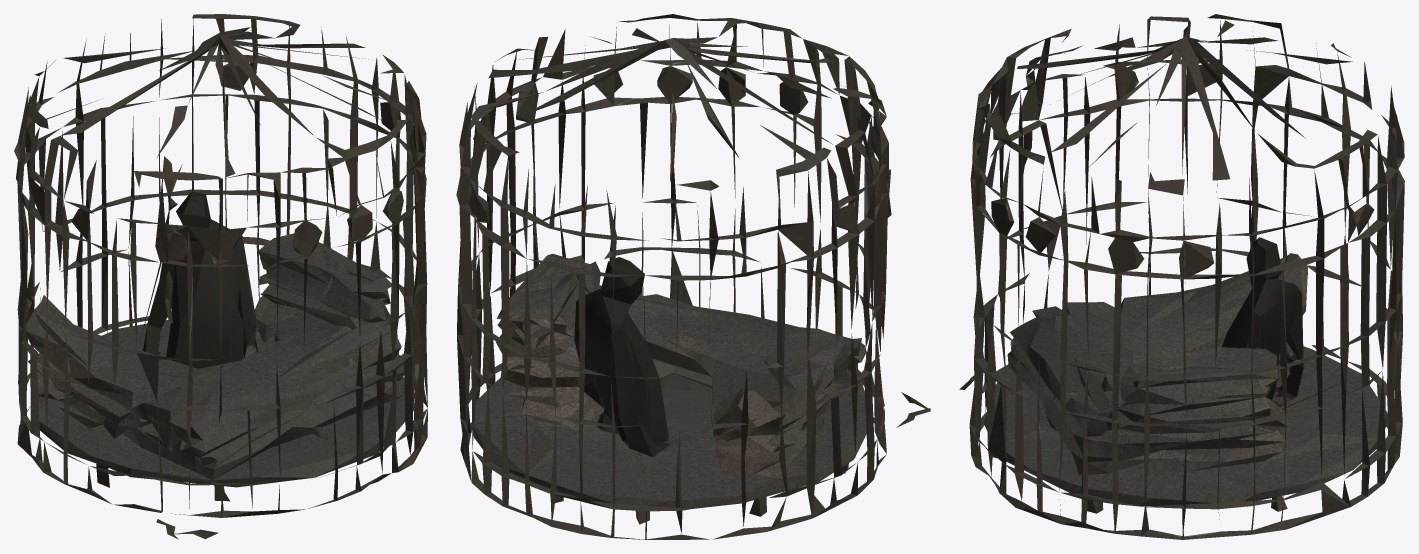
The model's file is prisoner_cage.glb.
3 views of the same model, side by side, from view 1: azimuth 30°, elevation 25°; view 2: azimuth 150°, elevation 25°; view 3: azimuth 270°, elevation 25° (orthographic). The views are drawn at different scales.
Bounding box in the file's own units: 2.25 × 2.4 × 2.33.
1 material, 1 textured.
